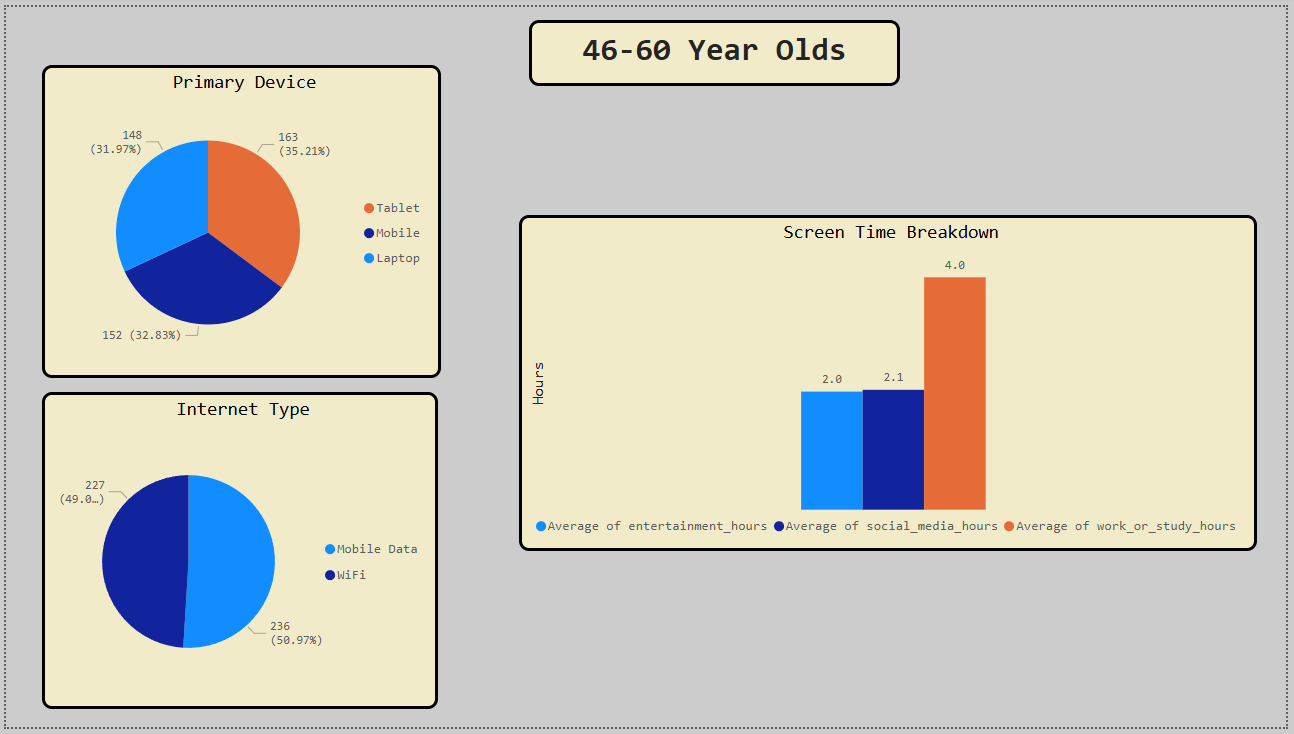

The page's visual inventory and layout, read from the dashboard file:
{"tool":"powerbi","page":{"name":"46-60yr olds","canvas":[1280,720],"ordinal":5},"visuals":[{"type":"pieChart","title":"Primary Device","fields":{"Category":["daily_internet_usage_by_age_gro.primary_device"],"Y":["CountNonNull(daily_internet_usage_by_age_gro.primary_device)"]},"box":[36.1,57.7,398.8,313.3],"z":0},{"type":"pieChart","title":"Internet Type","fields":{"Category":["daily_internet_usage_by_age_gro.internet_type"],"Y":["CountNonNull(daily_internet_usage_by_age_gro.internet_type)"]},"box":[36.1,385.4,395.7,316.4],"z":1000},{"type":"clusteredColumnChart","title":"Screen Time Breakdown","fields":{"Y":["Avg(daily_internet_usage_by_age_gro.entertainment_hours)","Avg(daily_internet_usage_by_age_gro.social_media_hours)","Avg(daily_internet_usage_by_age_gro.work_or_study_hours)"]},"box":[513.2,208.2,737.9,336],"z":2000},{"type":"textbox","box":[522.5,13.4,371,66],"z":3000}]}

Visuals, with their boxes in screenshot pixels (x1, y1, x2, y2), scaled from the page's 1280x720 canvas onto the 1294x734 screenshot:
"Primary Device" pieChart: detection(36, 59, 440, 378)
"Internet Type" pieChart: detection(36, 393, 437, 715)
"Screen Time Breakdown" clusteredColumnChart: detection(519, 212, 1265, 555)
textbox: detection(528, 14, 903, 81)
